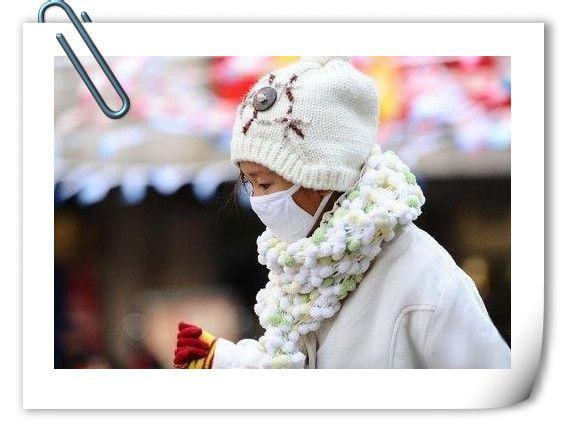OK: (242, 157, 326, 241)
